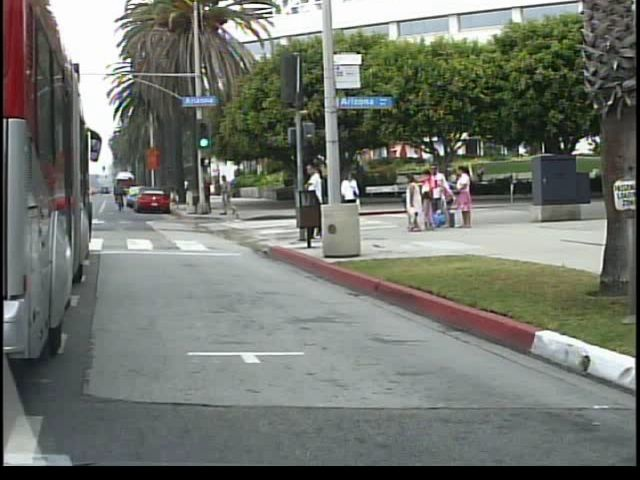person: (305, 158, 332, 242), (344, 167, 367, 231), (220, 170, 241, 217)
